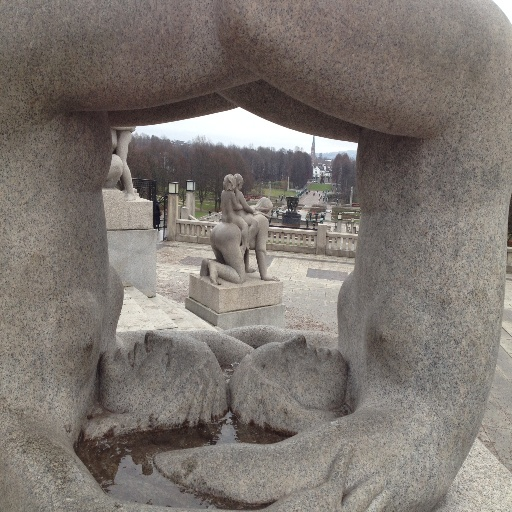hand: (254, 442, 395, 511), (262, 273, 280, 280), (245, 266, 256, 275), (252, 207, 255, 213)
